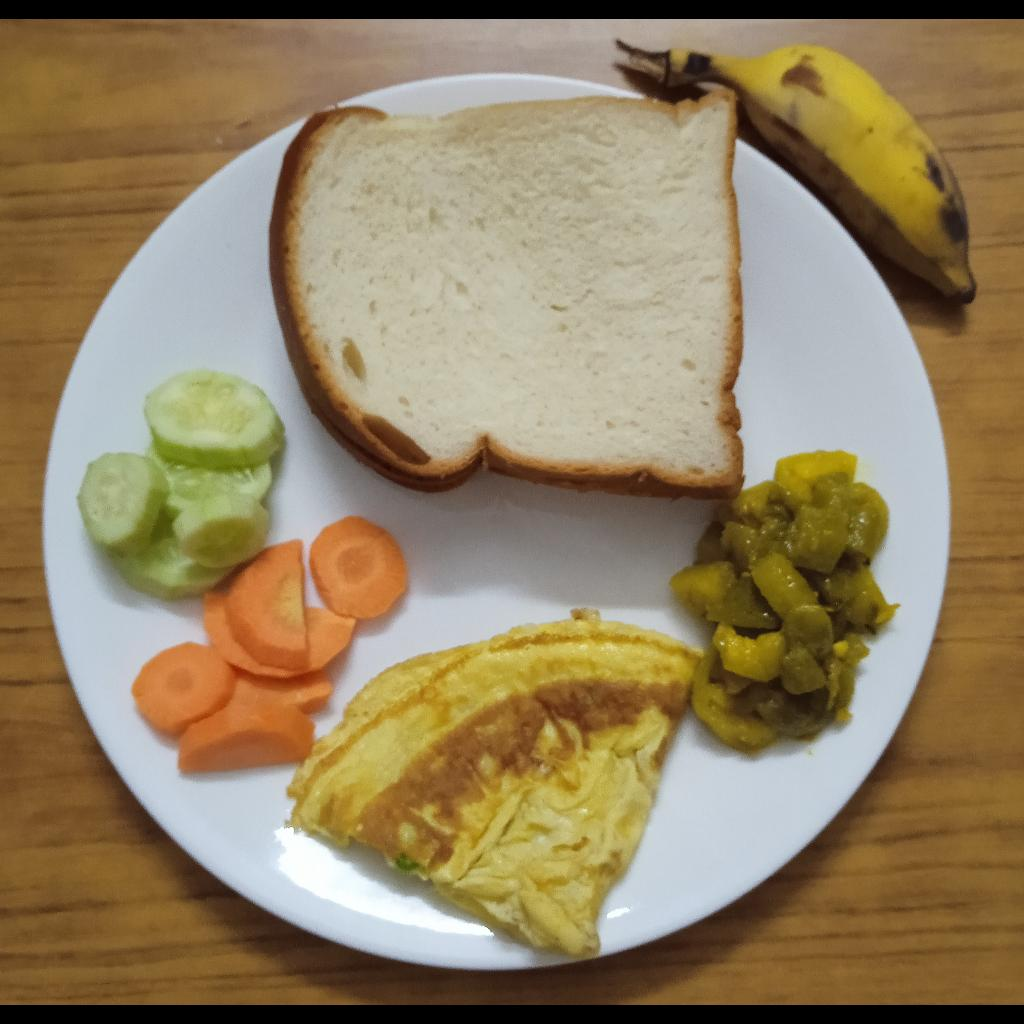banana: (617, 39, 976, 305)
bread: (269, 88, 746, 502)
carrot: (131, 517, 407, 775)
cucumber: (77, 369, 287, 600)
egg-poached: (287, 611, 705, 957)
potol: (670, 448, 899, 750)
